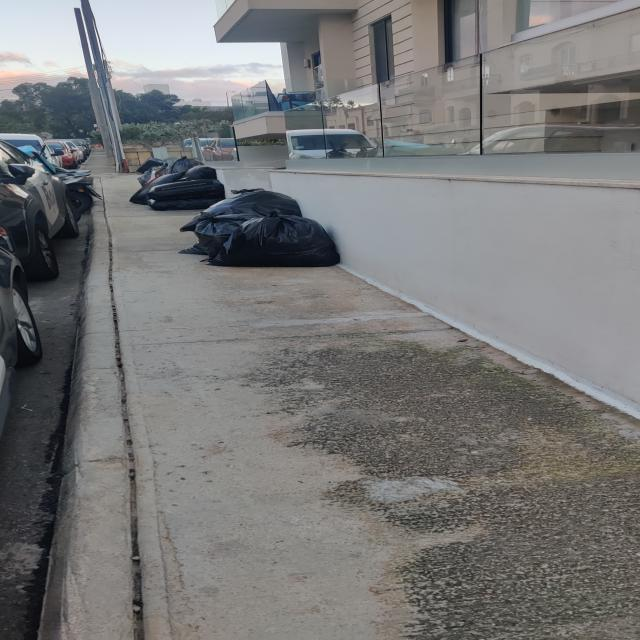Mixed Waste -Black Bags-: (128, 156, 344, 269)
